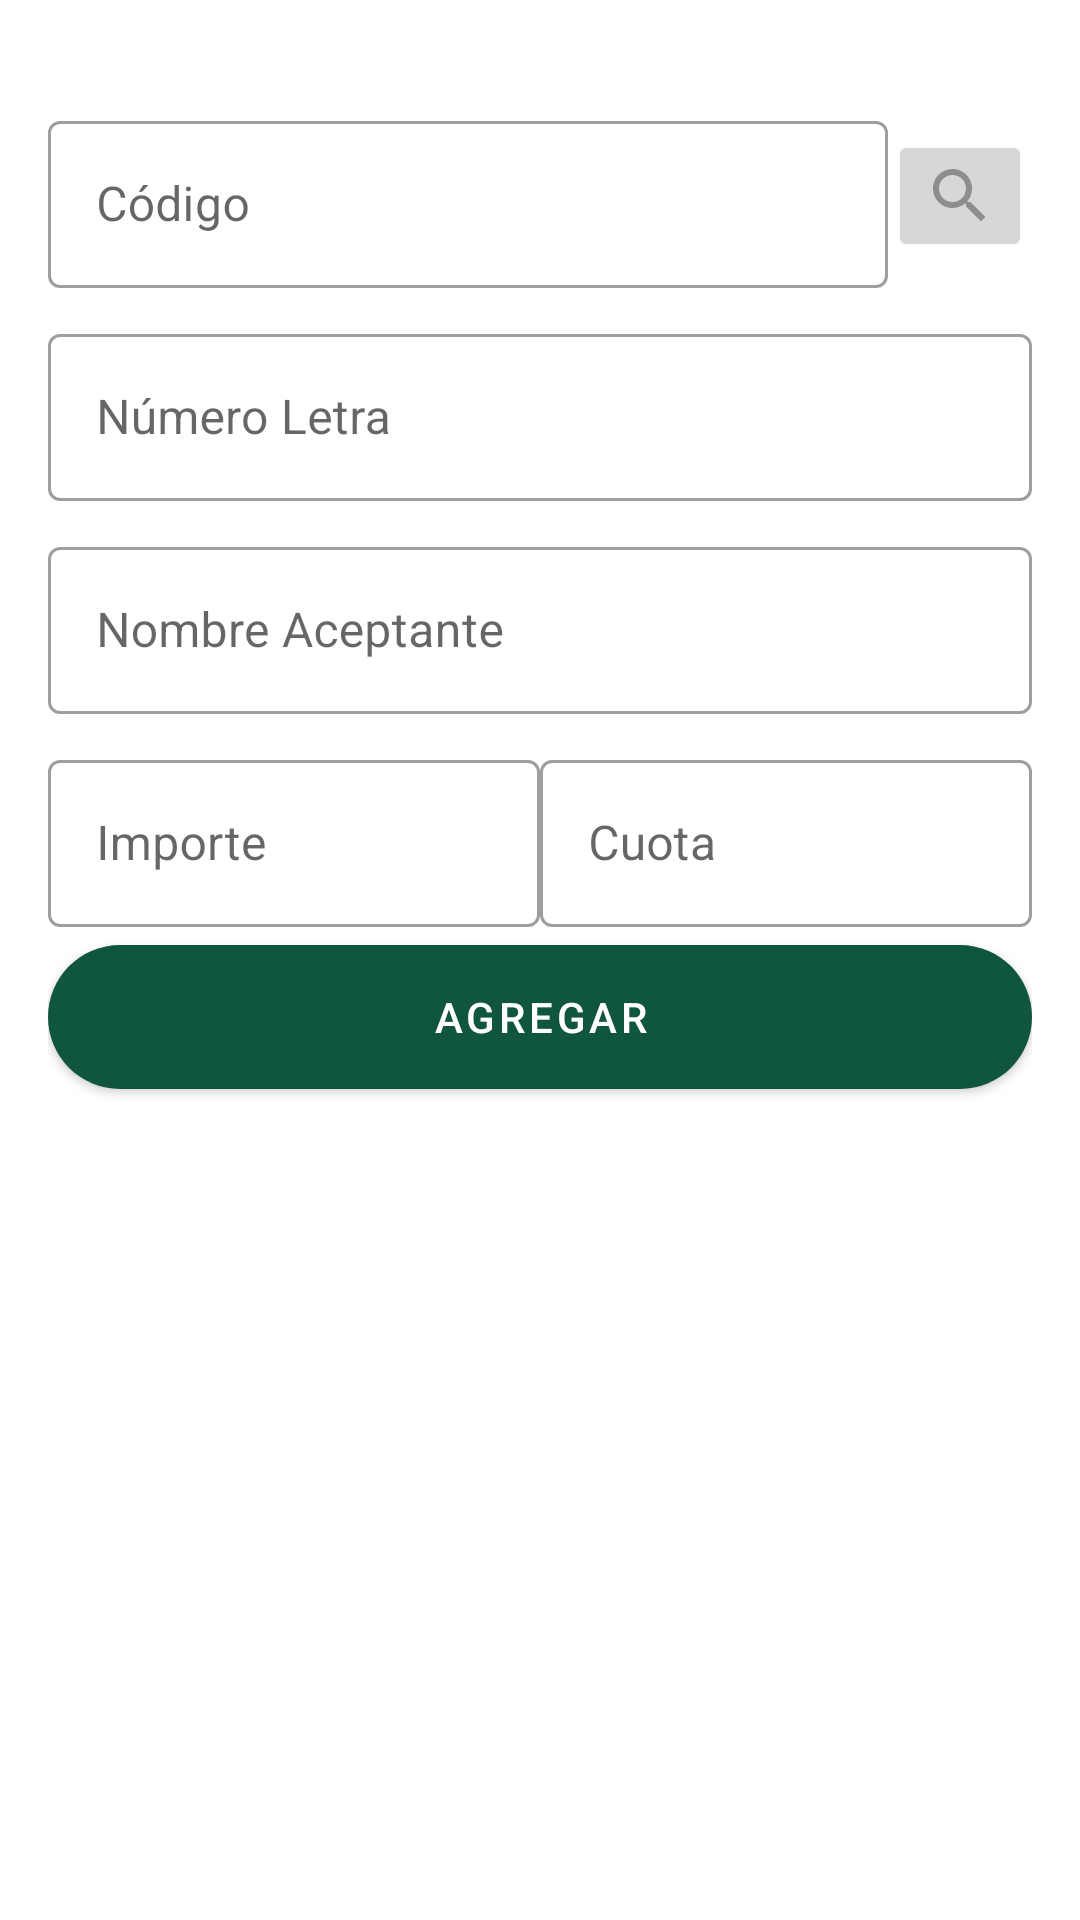

Named icons in this screenshot (1080x1920) and their centers, point (x, y):
search: point (960, 196)
